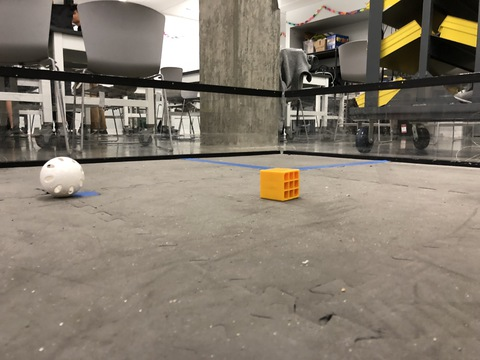ball: (34, 155, 91, 203)
block: (251, 162, 310, 207)
